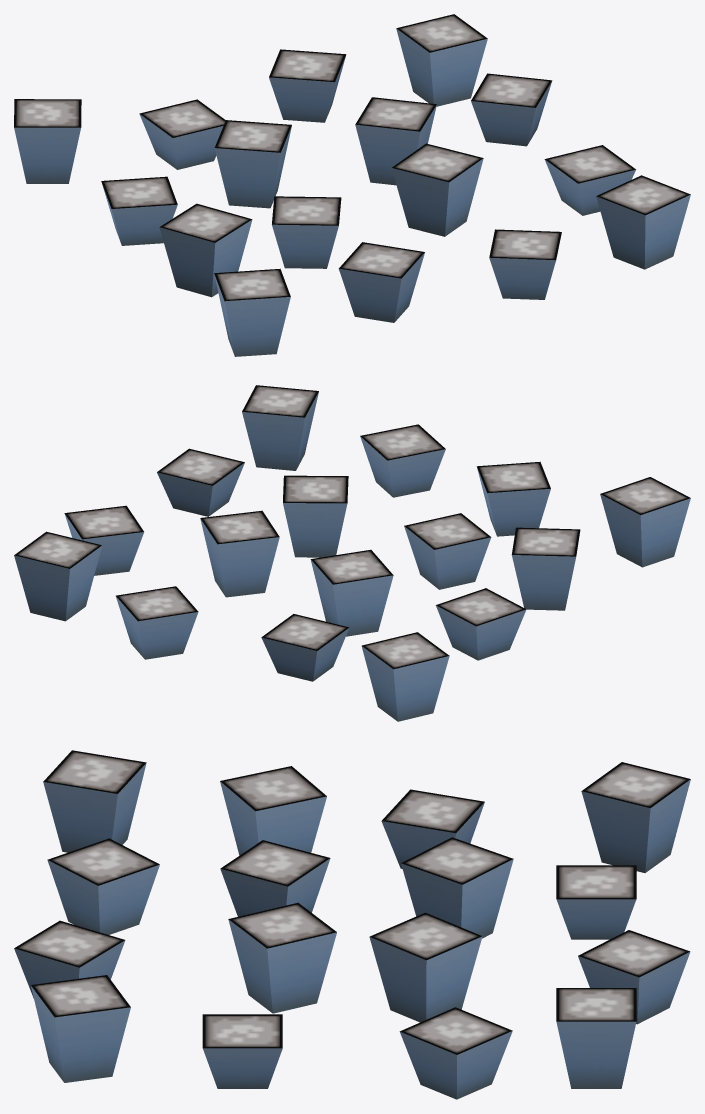
File: deco_winter_grassCutSnow.FBX
The picture shows the model from 3 angles, top to bottom: view 1: azimuth 30°, elevation 25°; view 2: azimuth 150°, elevation 25°; view 3: azimuth 270°, elevation 25°; orthographic projection. The views are drawn at different scales.
Parts seen in each view (by area): view 1: deco_winter_grassCutSnow; view 2: deco_winter_grassCutSnow; view 3: deco_winter_grassCutSnow.
Part boxes in pixels (bbox=[...]): deco_winter_grassCutSnow: bbox=[14, 14, 690, 356]; deco_winter_grassCutSnow: bbox=[14, 385, 690, 721]; deco_winter_grassCutSnow: bbox=[14, 750, 690, 1099].
Size of the model in its own units: 1.9 by 0.2295 by 1.91.
1 material, 1 textured.
